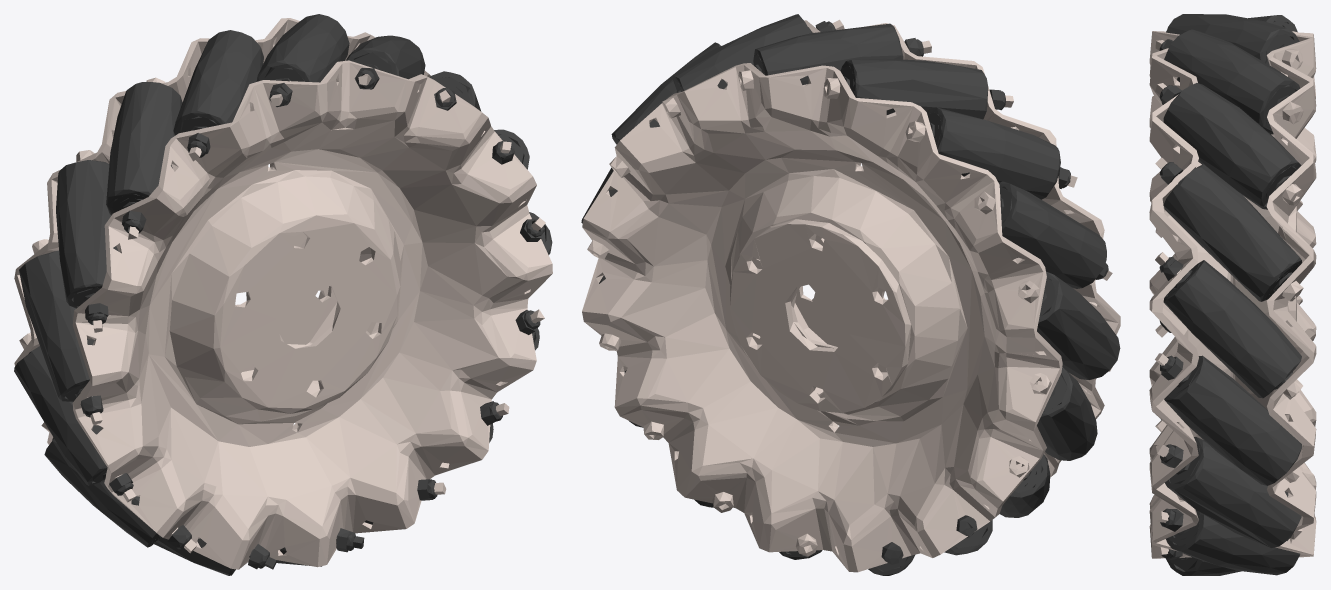
The model's file is wheel_left.dae.
The picture shows the model from 3 angles, left to right: view 1: azimuth 30°, elevation 25°; view 2: azimuth 150°, elevation 25°; view 3: azimuth 270°, elevation 25°; orthographic projection.
Parts seen in each view (by area): view 1: wheel_lf; view 2: wheel_lf; view 3: wheel_lf.
Boxes of the visible parts, x1,y1,x2,y2 form: wheel_lf: [14, 14, 552, 575]; wheel_lf: [581, 14, 1120, 575]; wheel_lf: [1149, 14, 1316, 575].
Bounding box in the file's own units: 0.1524 × 0.0452 × 0.1523.
